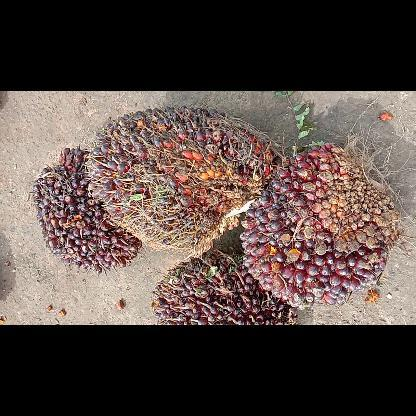Kurang masak: (84, 106, 276, 256), (240, 140, 398, 306), (32, 148, 142, 274), (152, 250, 298, 324)
